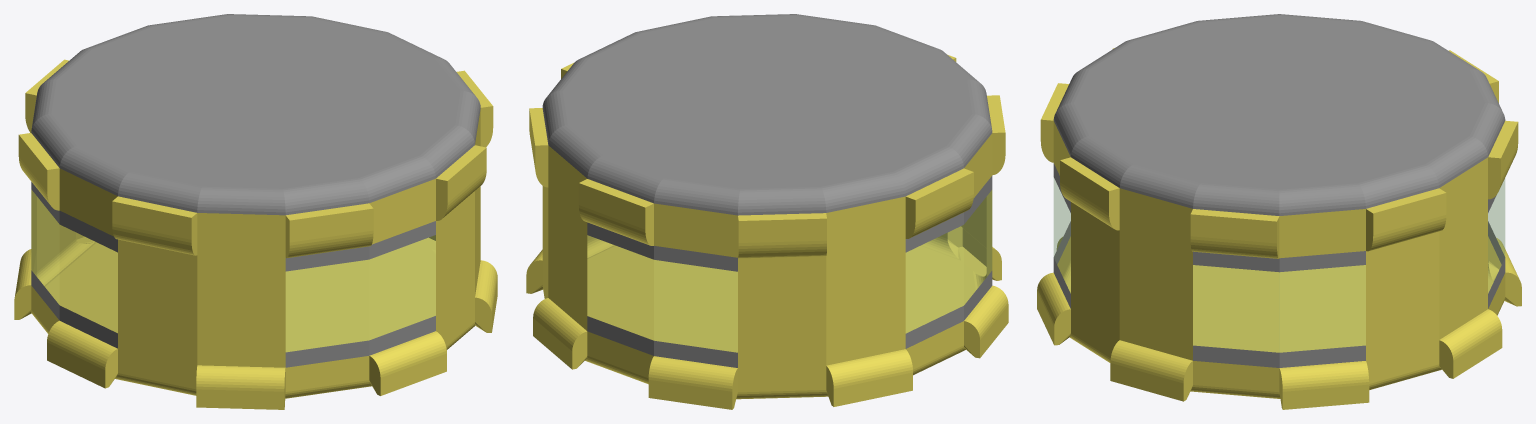
File: InfinityTower.gltf
3 views of the same model, side by side, from view 1: azimuth 30°, elevation 25°; view 2: azimuth 150°, elevation 25°; view 3: azimuth 270°, elevation 25° (orthographic).
Parts seen in each view (by area): view 1: Floor; view 2: Floor; view 3: Floor.
Part boxes in pixels (x1=…): Floor: x1=14, y1=14, x2=497, y2=409; Floor: x1=526, y1=14, x2=1008, y2=409; Floor: x1=1037, y1=14, x2=1521, y2=409.
Size of the model in its own units: 4.29 by 2 by 4.29.
